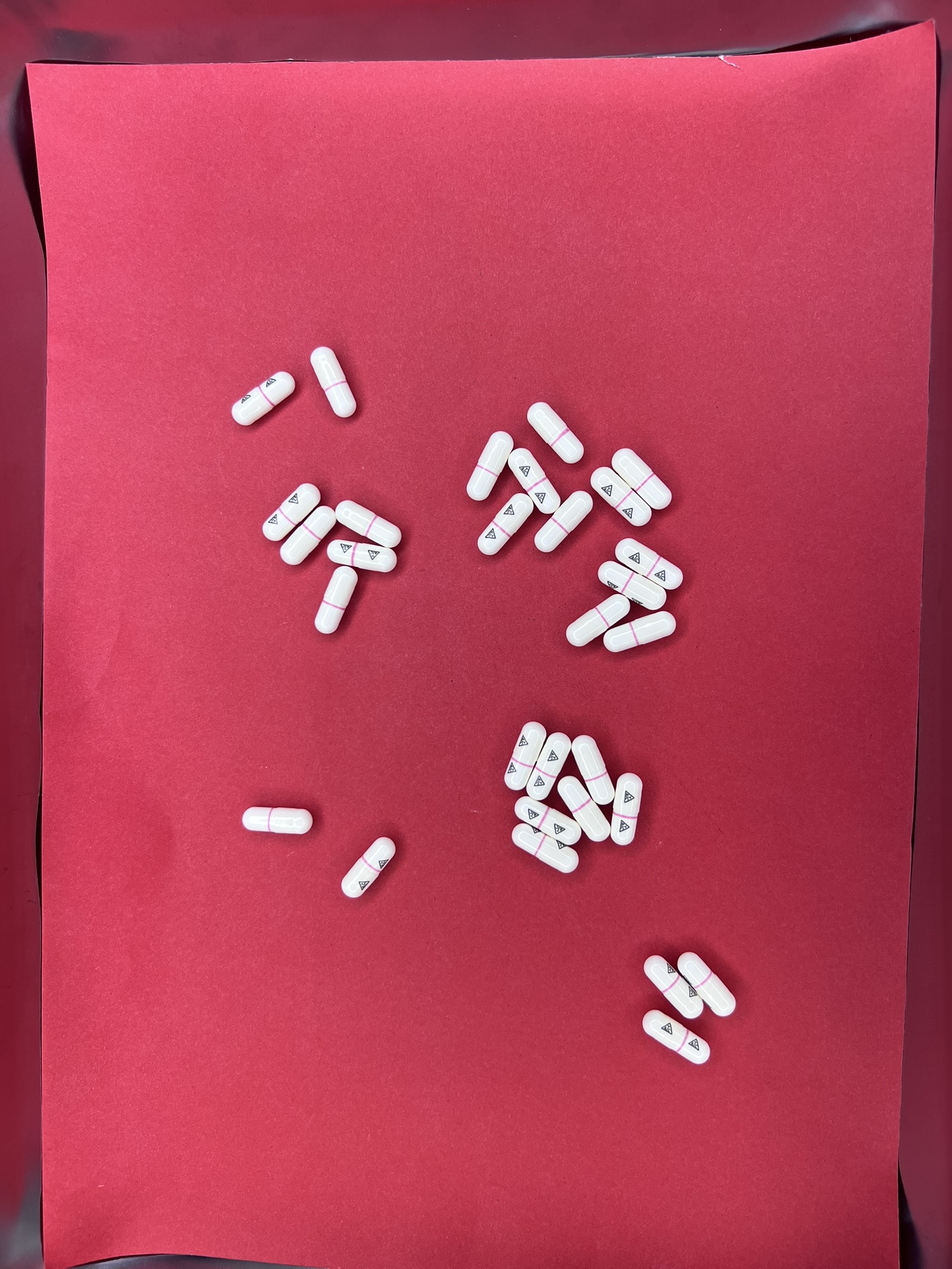Capsule: (611, 446, 674, 511), (611, 536, 683, 591), (645, 954, 704, 1021), (641, 1006, 709, 1064), (677, 950, 735, 1018), (566, 591, 634, 648), (477, 492, 536, 557), (535, 490, 593, 555), (261, 481, 321, 543), (526, 402, 585, 465), (510, 822, 580, 875), (590, 466, 650, 527), (507, 447, 560, 516), (513, 795, 582, 848), (280, 504, 338, 566), (231, 371, 295, 427), (340, 836, 395, 901), (310, 345, 358, 419), (559, 776, 611, 844), (597, 560, 667, 610), (334, 499, 401, 551), (466, 431, 514, 503), (525, 731, 572, 802), (571, 734, 615, 807), (603, 611, 676, 654), (315, 566, 359, 636), (504, 722, 547, 793), (610, 774, 643, 845), (328, 540, 396, 574), (243, 806, 312, 836)
